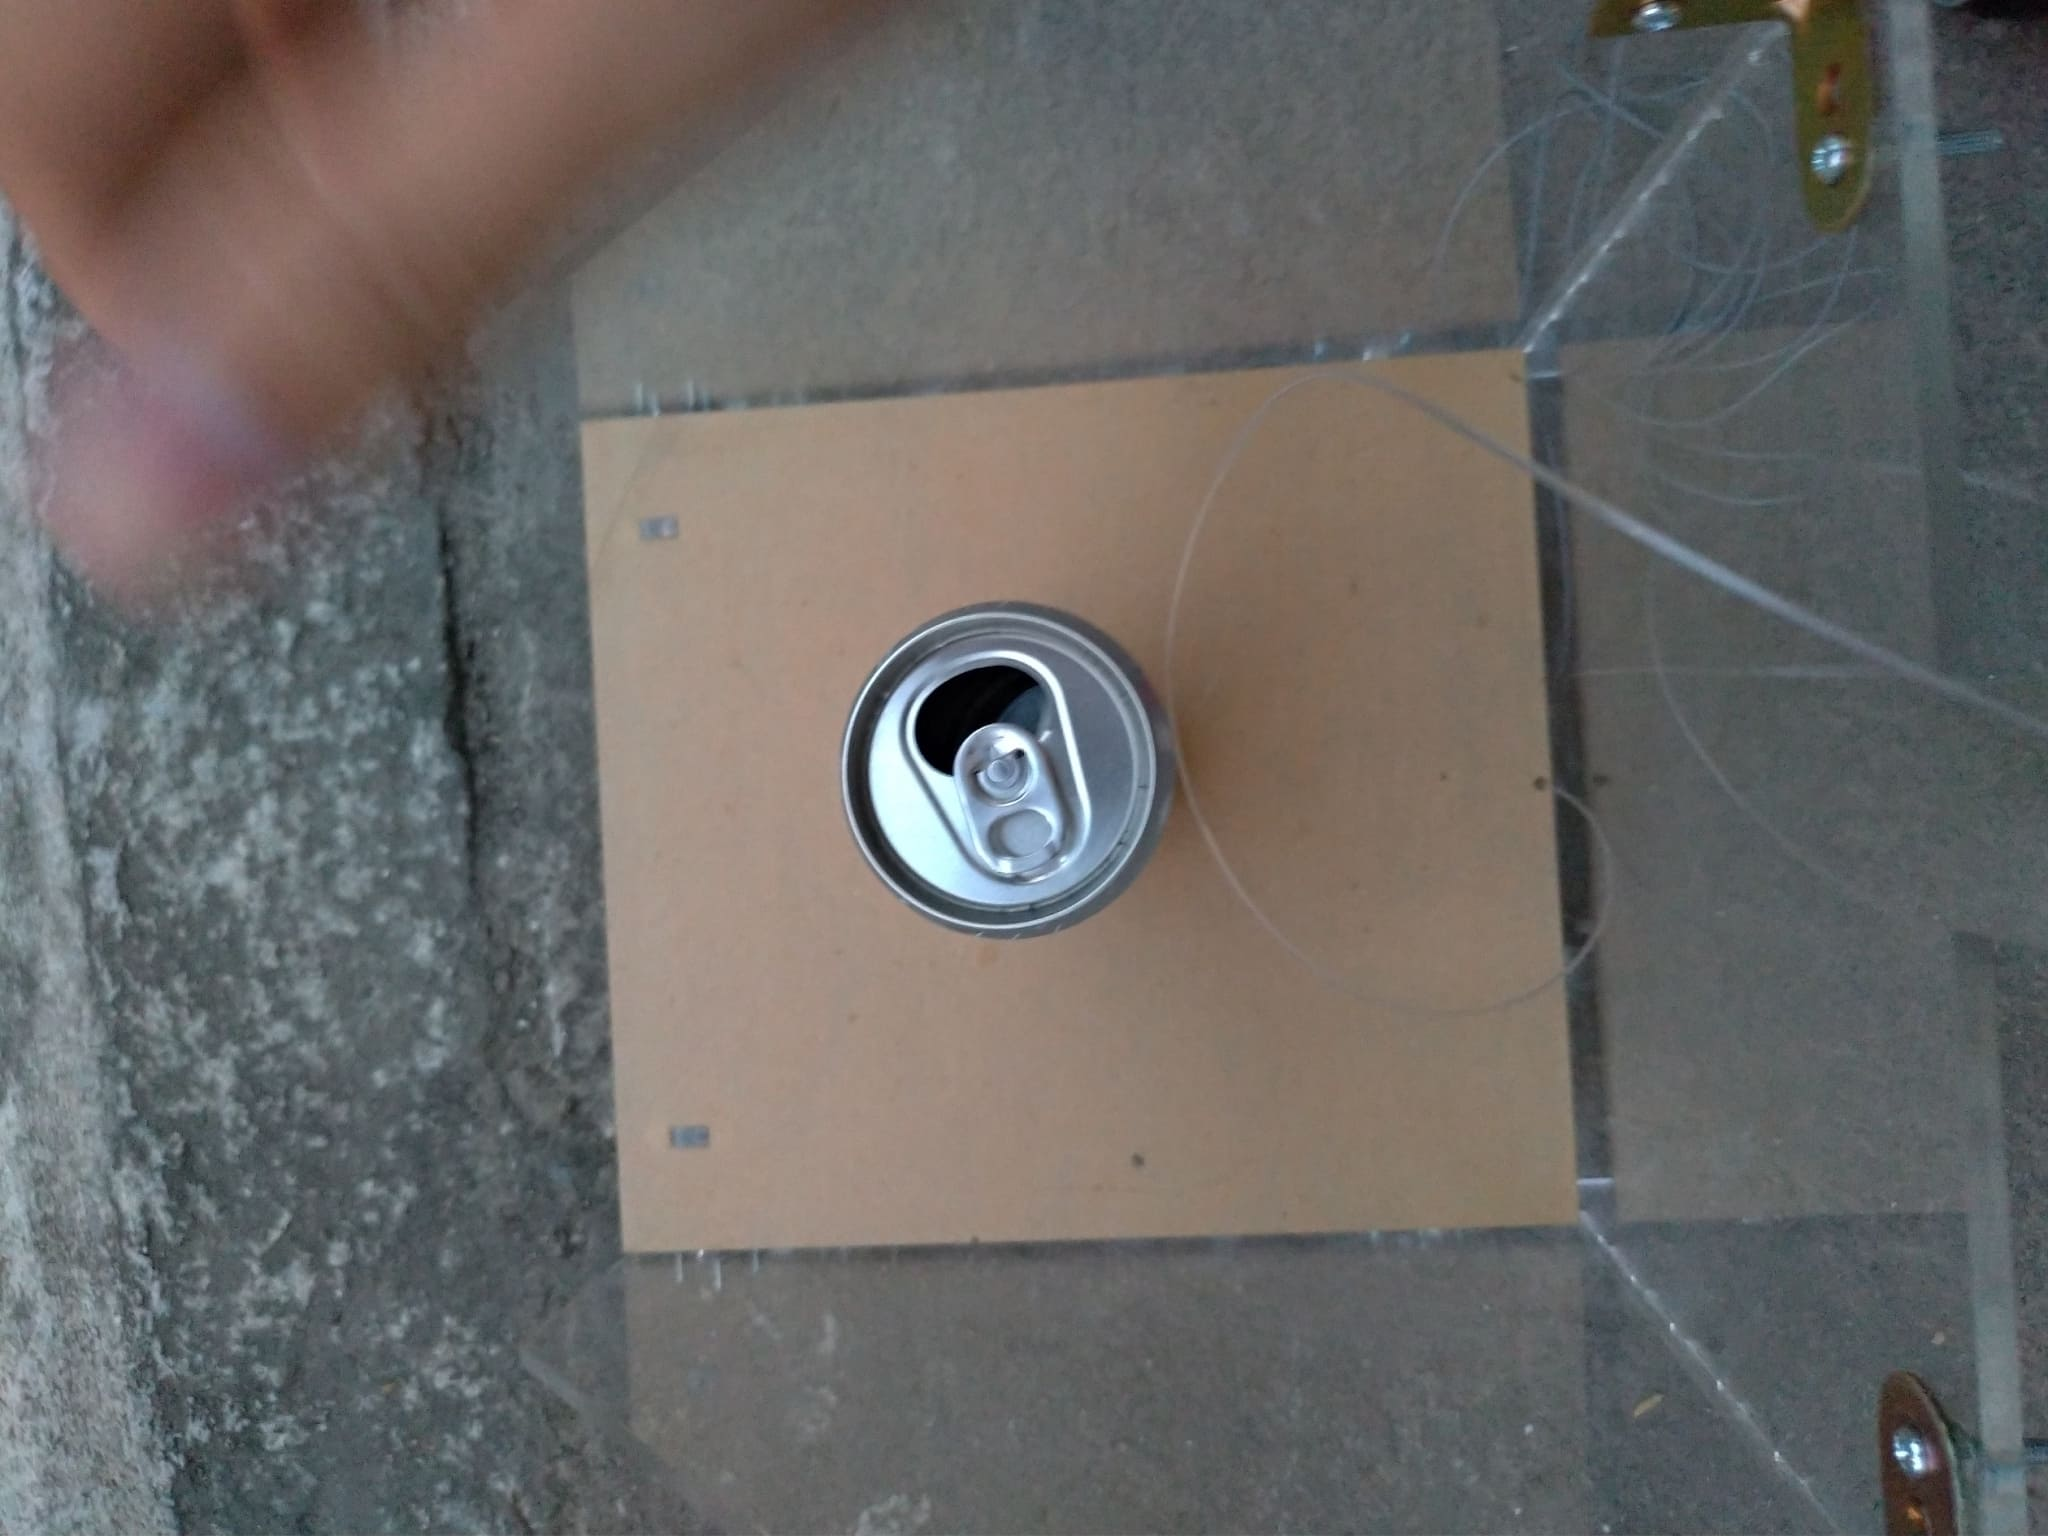AlCan: (835, 600, 1171, 941)
